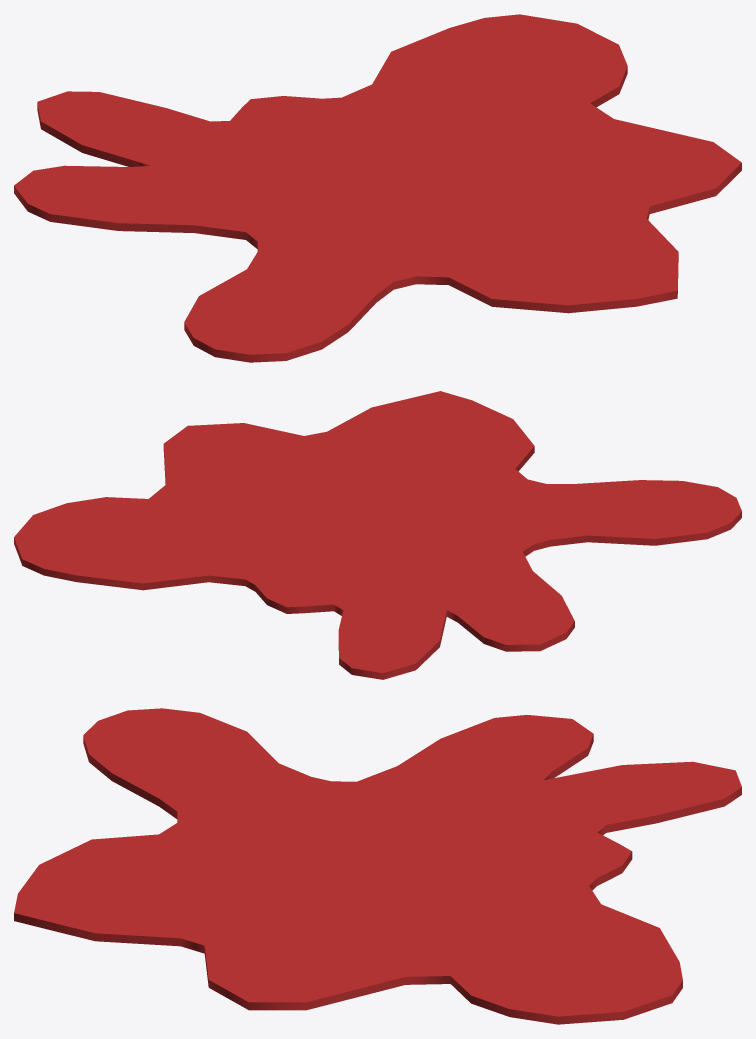
Rendered from bloodSplat.fbx.
3 renders of one model, top to bottom at view 1: azimuth 30°, elevation 25°; view 2: azimuth 150°, elevation 25°; view 3: azimuth 270°, elevation 25°, orthographic. The views are drawn at different scales.
Parts seen in each view (by area): view 1: pCylinder1; view 2: pCylinder1; view 3: pCylinder1.
Part boxes in pixels (x1=…): pCylinder1: x1=14, y1=14, x2=741, y2=362; pCylinder1: x1=14, y1=391, x2=741, y2=679; pCylinder1: x1=14, y1=708, x2=741, y2=1024.
Size of the model in its own units: 2.01 by 0.0243 by 2.01.
